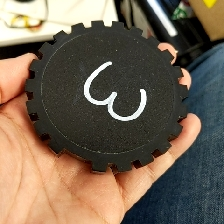gear: (23, 19, 190, 174)
missing: (48, 138, 109, 174)
